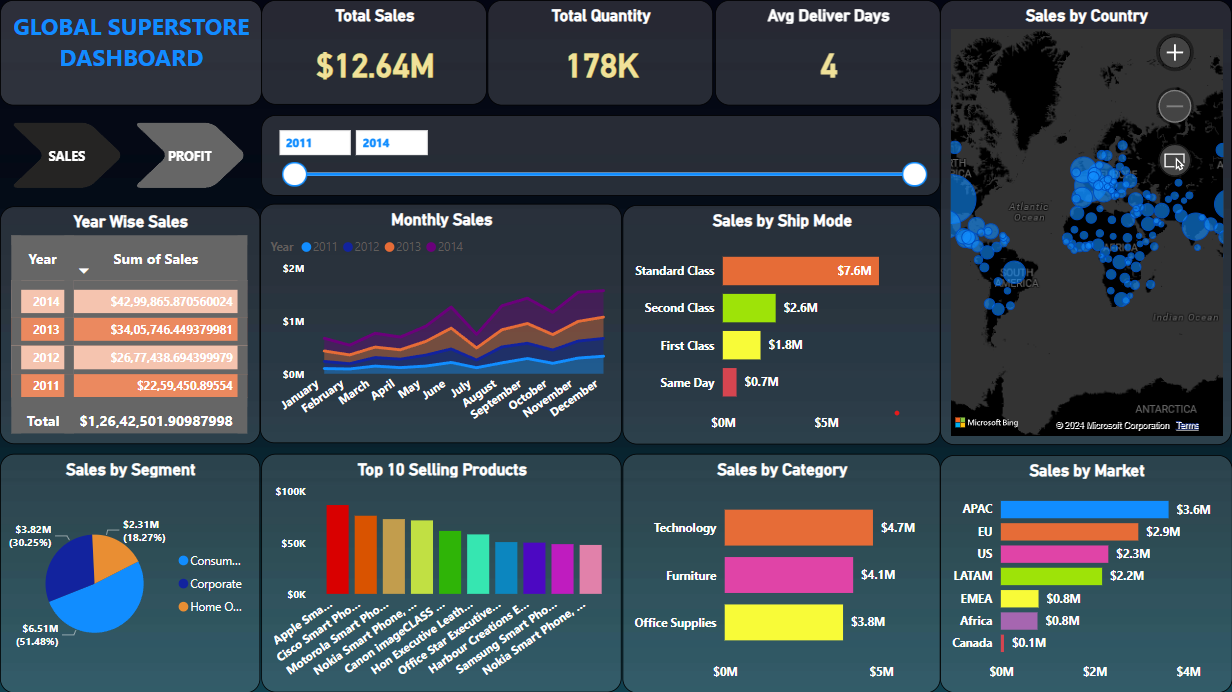

What the dashboard file says about the page in this screenshot:
{"tool":"powerbi","page":{"name":"SALES ","canvas":[1280,720],"ordinal":0},"visuals":[{"type":"textbox","box":[0,0,271.7,109.8],"z":0},{"type":"clusteredBarChart","title":"Sales by Ship Mode","fields":{"Y":["Sum(Orders.Sales)"],"Category":["Orders.Ship Mode"]},"box":[646.4,213.5,330.5,248.4],"z":1000},{"type":"clusteredBarChart","title":"Sales by Category","fields":{"Y":["Sum(Orders.Sales)"],"Category":["Orders.Category"]},"box":[646.4,471.6,330.5,248.4],"z":2000},{"type":"clusteredBarChart","title":"Sales by Market","fields":{"Y":["Sum(Orders.Sales)"],"Category":["Orders.Market","Orders.Category"]},"box":[976.9,472.8,304,247.2],"z":3000},{"type":"map","title":"Sales by Country","fields":{"Category":["Orders.Country"],"Size":["Sum(Orders.Sales)"]},"box":[977,0,303.3,462.4],"z":4000},{"type":"stackedAreaChart","title":"Monthly Sales","fields":{"Y":["Sum(Orders.Sales)"],"Category":["Orders.Order Date.Variation.Date Hierarchy.Month"],"Series":["Orders.Order Date.Variation.Date Hierarchy.Year"]},"box":[270.2,212.3,376.3,248.4],"z":5000},{"type":"columnChart","title":"Top 10 Selling Products","fields":{"Y":["Sum(Orders.Sales)"],"Category":["Orders.Product Name"]},"box":[271.7,472,374.6,248.4],"z":6000},{"type":"card","title":"Total Sales","fields":{"Values":["Sum(Orders.Sales)"]},"box":[271.7,0,234.6,108.4],"z":7000},{"type":"card","title":"Total Quantity","fields":{"Values":["Sum(Orders.Quantity)"]},"box":[506.3,0,234.6,109.8],"z":8000},{"type":"card","title":"Avg Deliver Days","fields":{"Values":["Avg(Orders.Delivery days)"]},"box":[742.4,0,234.6,109.8],"z":9000},{"type":"slicer","fields":{"Values":["Orders.Order Date.Variation.Date Hierarchy.Year"]},"box":[271.7,119.4,705.3,83.7],"z":10000},{"type":"pieChart","title":"Sales by Segment","fields":{"Category":["Orders.Segment"],"Y":["Sum(Orders.Sales)"]},"box":[0,471.6,270.2,248.4],"z":11000},{"type":"tableEx","title":"Year Wise Sales","fields":{"Values":["Orders.Year","Sum(Orders.Sales)"]},"box":[0,214.7,270.2,247.2],"z":12000},{"type":"pageNavigator","box":[10.9,127.8,247.2,68.7],"z":13000}]}

Visuals, with their boxes in screenshot pixels (x1, y1, x2, y2), scaled from the page's 1280x720 canvas onto the 1232x692 screenshot:
textbox: (x1=0, y1=0, x2=262, y2=106)
"Sales by Ship Mode" clusteredBarChart: (x1=622, y1=205, x2=940, y2=444)
"Sales by Category" clusteredBarChart: (x1=622, y1=453, x2=940, y2=691)
"Sales by Market" clusteredBarChart: (x1=940, y1=454, x2=1231, y2=691)
"Sales by Country" map: (x1=940, y1=0, x2=1231, y2=444)
"Monthly Sales" stackedAreaChart: (x1=260, y1=204, x2=622, y2=443)
"Top 10 Selling Products" columnChart: (x1=262, y1=454, x2=622, y2=691)
"Total Sales" card: (x1=262, y1=0, x2=487, y2=104)
"Total Quantity" card: (x1=487, y1=0, x2=713, y2=106)
"Avg Deliver Days" card: (x1=715, y1=0, x2=940, y2=106)
slicer - Orders.Order Date.Variation.Date Hierarchy.Year: (x1=262, y1=115, x2=940, y2=195)
"Sales by Segment" pieChart: (x1=0, y1=453, x2=260, y2=691)
"Year Wise Sales" tableEx: (x1=0, y1=206, x2=260, y2=444)
pageNavigator: (x1=10, y1=123, x2=248, y2=189)
